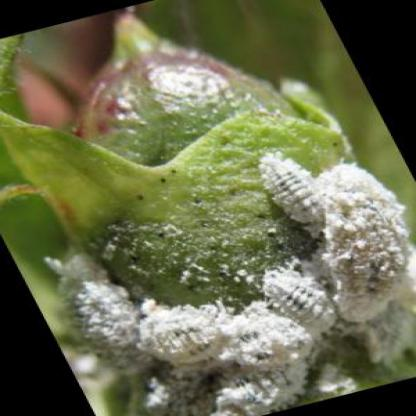mealy bug: (318, 164, 412, 325), (59, 257, 142, 382), (140, 305, 230, 363), (257, 156, 324, 233), (265, 270, 337, 335), (234, 312, 314, 366)
